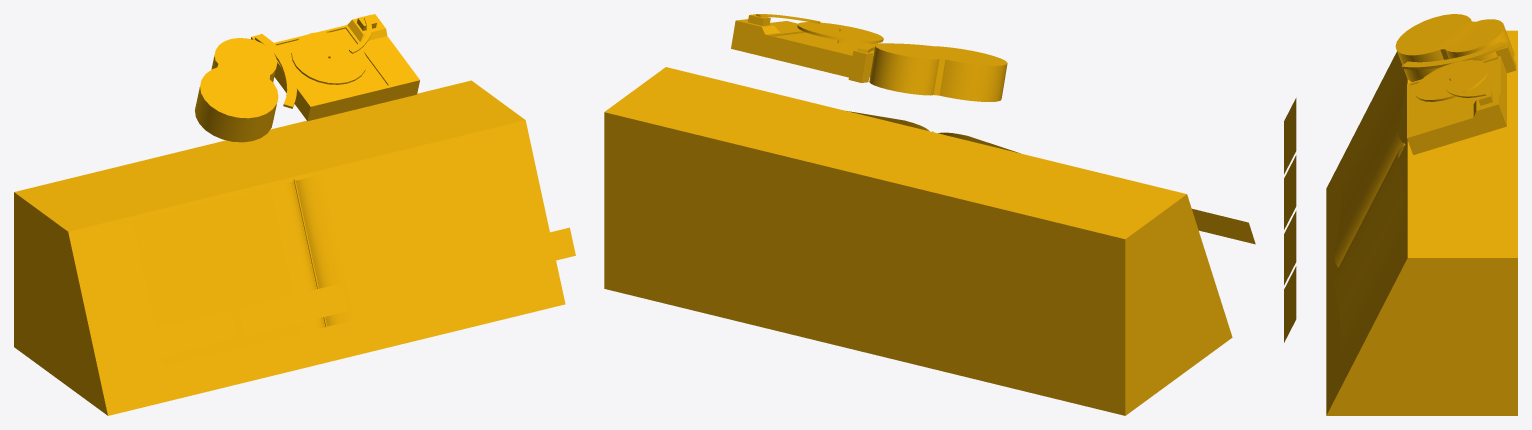
File: SM_JukeBoxParts.FBX
The picture shows the model from 3 angles, left to right: view 1: azimuth 30°, elevation 25°; view 2: azimuth 150°, elevation 25°; view 3: azimuth 270°, elevation 25°; orthographic projection. The views are drawn at different scales.
Visible parts, largest first — view 1: SM_JukeBoxAccessories; view 2: SM_JukeBoxAccessories; view 3: SM_JukeBoxAccessories.
Boxes of the visible parts, <box> form: SM_JukeBoxAccessories: <box>14,14,575,415</box>; SM_JukeBoxAccessories: <box>604,14,1255,415</box>; SM_JukeBoxAccessories: <box>1284,14,1517,415</box>.
Bounding box in the file's own units: 119 × 64.81 × 51.51.
